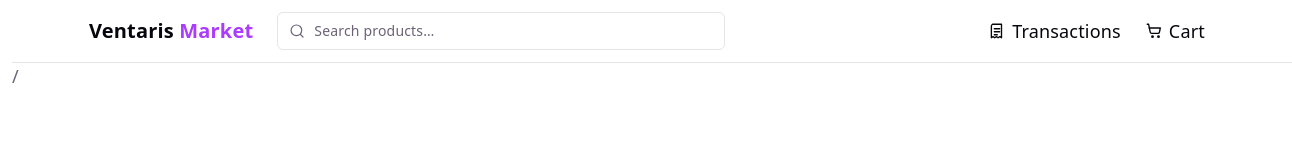
Scenario: Header › navigates to /?search=<term> when the search form is submitted
Type "wireless mouse" into the search field with placeholder "Search products…" at (501, 31), box [277,12,725,50]
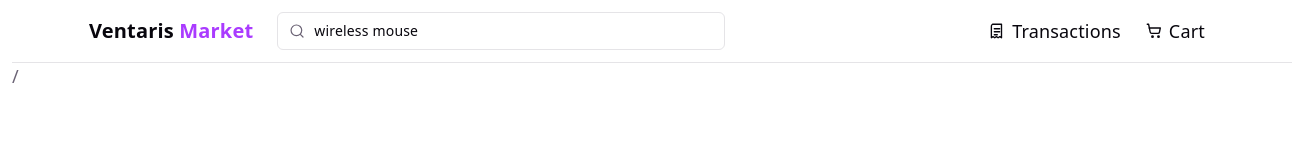
Submit the form with placeholder "Search products…", box [277,12,725,50]
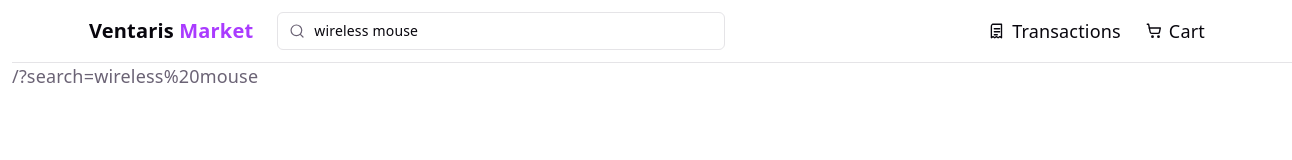
Expected: the text with test id "location" reads "/?search=wireless%20mouse", [12,64,258,88]
